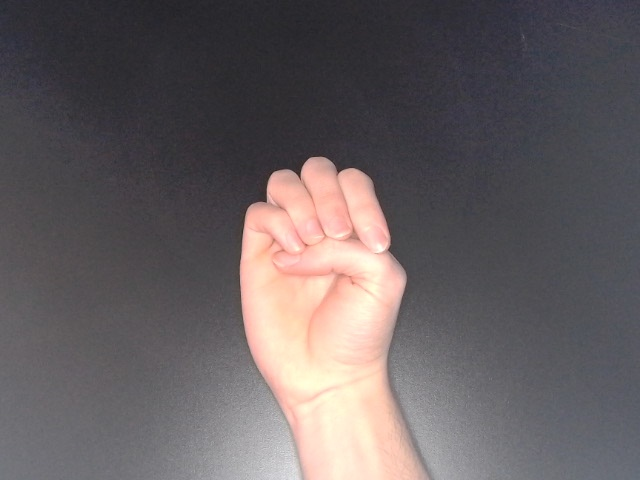e: (233, 152, 412, 416)
